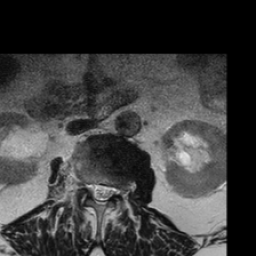CCS_normal: (97, 174, 104, 211)
LFS_stenosis: (113, 179, 121, 203)
LLS_normal: (105, 178, 113, 204)
RFS_stenosis: (80, 173, 89, 196)
RLS_normal: (89, 177, 97, 206)
